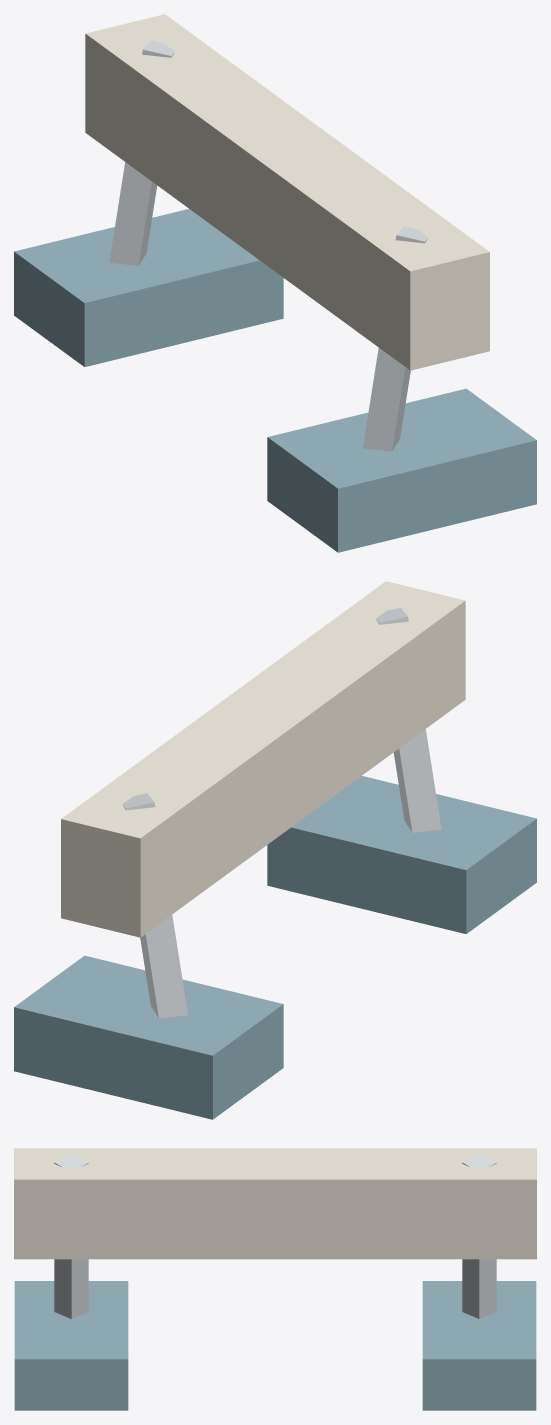
File: prop_field_barricade_v4_ShadowProxy.glb
3 views of the same model, one above another, from view 1: azimuth 30°, elevation 25°; view 2: azimuth 150°, elevation 25°; view 3: azimuth 270°, elevation 25° (orthographic). The views are drawn at different scales.
Parts seen in each view (by area): view 1: prop_field_barricade_v4_ShadowProxy / Primary assembly; view 2: prop_field_barricade_v4_ShadowProxy / Primary assembly; view 3: prop_field_barricade_v4_ShadowProxy / Primary assembly.
Boxes of the visible parts, left/top/right/bottom form: prop_field_barricade_v4_ShadowProxy / Primary assembly: left=14, top=14, right=536, bottom=552; prop_field_barricade_v4_ShadowProxy / Primary assembly: left=14, top=581, right=536, bottom=1119; prop_field_barricade_v4_ShadowProxy / Primary assembly: left=14, top=1148, right=536, bottom=1410.
Size of the model in its own units: 0.65 by 0.8401 by 1.84.
